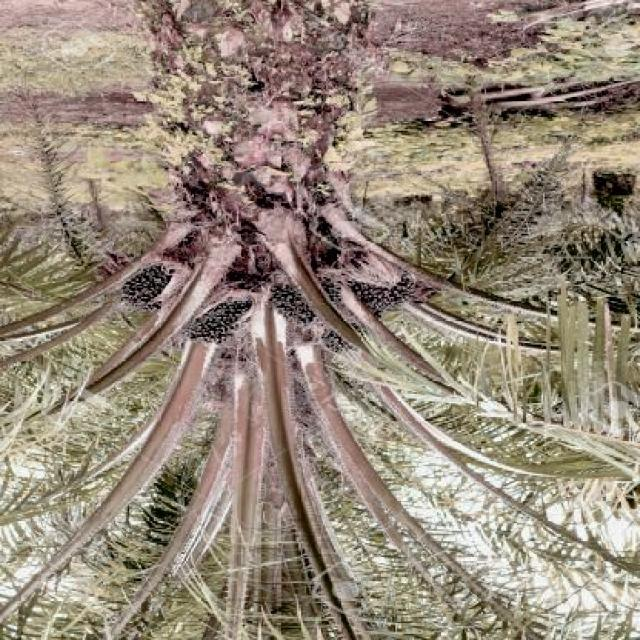palm-oil: (322, 246, 431, 316), (174, 287, 263, 346), (111, 258, 187, 317), (256, 272, 330, 327)
